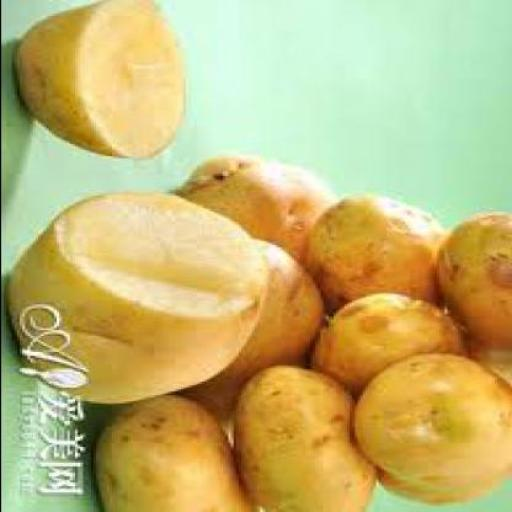biodegradable: (13, 188, 269, 402), (190, 235, 328, 431), (15, 0, 187, 156), (354, 352, 511, 502), (240, 362, 380, 509), (98, 393, 261, 510), (180, 155, 337, 275), (315, 290, 467, 392), (306, 198, 446, 307), (436, 210, 510, 360)
